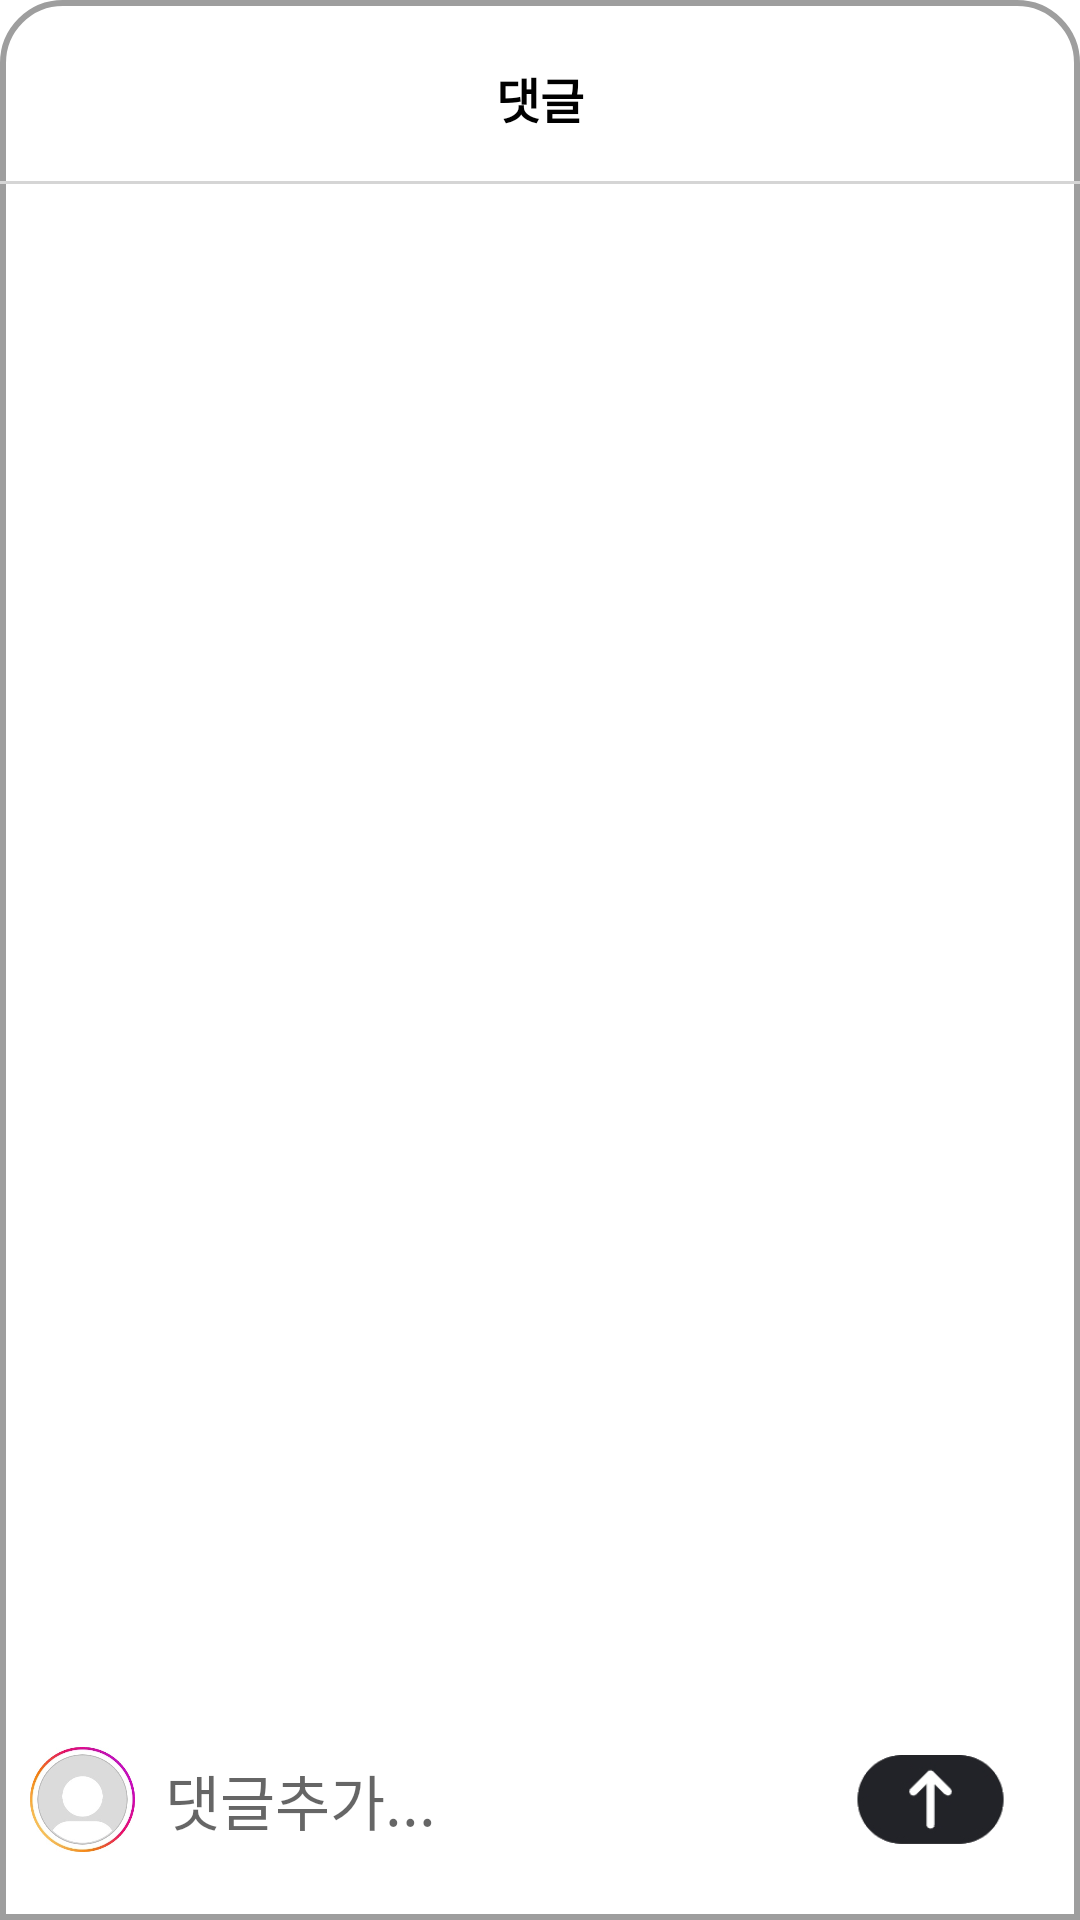

Named icons in this screenshot (1080px×1920px) and their centers, (x=x, y=y):
comment send: (x=930, y=1799)
cstar story: (x=82, y=1799)
